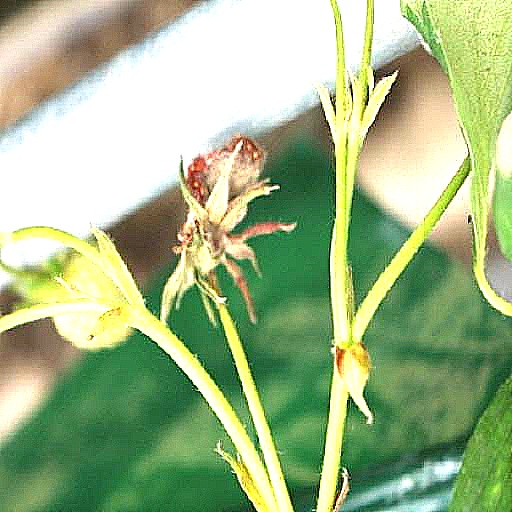Gray Mold: (217, 189, 351, 378)
